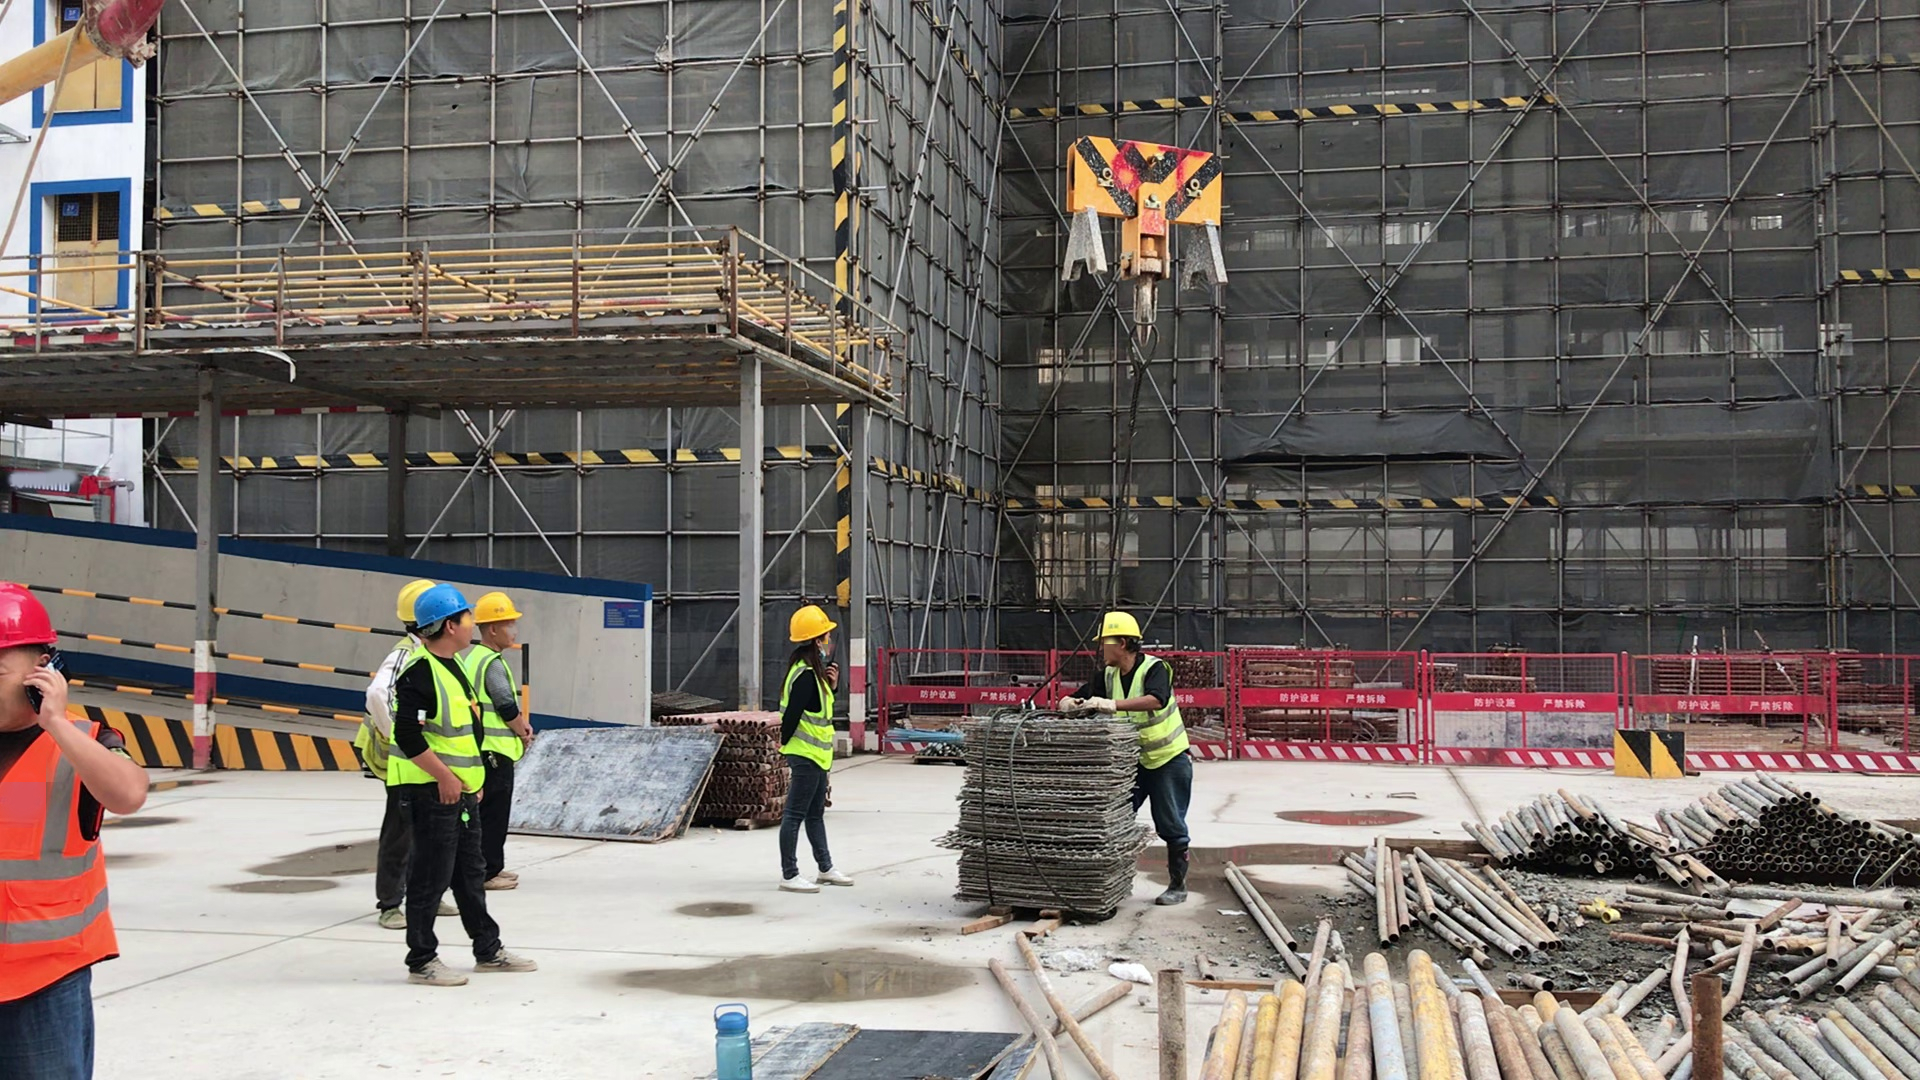fence: (881, 651, 1920, 779)
helmet: (1, 579, 58, 650), (394, 573, 435, 627), (413, 587, 471, 624), (786, 606, 835, 646), (1092, 608, 1148, 641), (471, 592, 521, 627)
hook: (1056, 130, 1235, 347)
person: (1, 576, 150, 1080), (384, 586, 540, 985), (1060, 611, 1192, 910), (367, 579, 462, 927), (773, 611, 859, 894), (453, 589, 532, 890)
scaffold: (962, 722, 1138, 919), (716, 711, 788, 827)
vest: (1, 711, 115, 1006), (385, 641, 485, 796), (1104, 658, 1189, 768), (463, 646, 521, 757), (777, 661, 832, 770)
